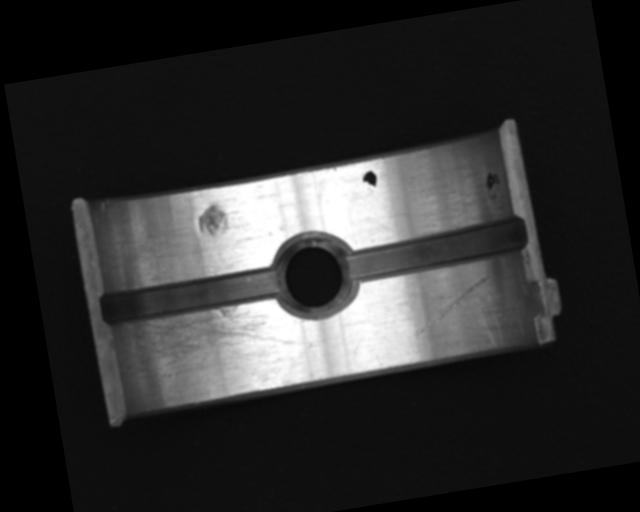blot: (483, 169, 504, 204), (360, 168, 380, 194)
bruise: (194, 201, 231, 240)
gap: (338, 212, 531, 286), (98, 262, 284, 329)
hole: (268, 228, 360, 323)
nick: (405, 272, 499, 338)
scratch: (120, 296, 298, 396)
